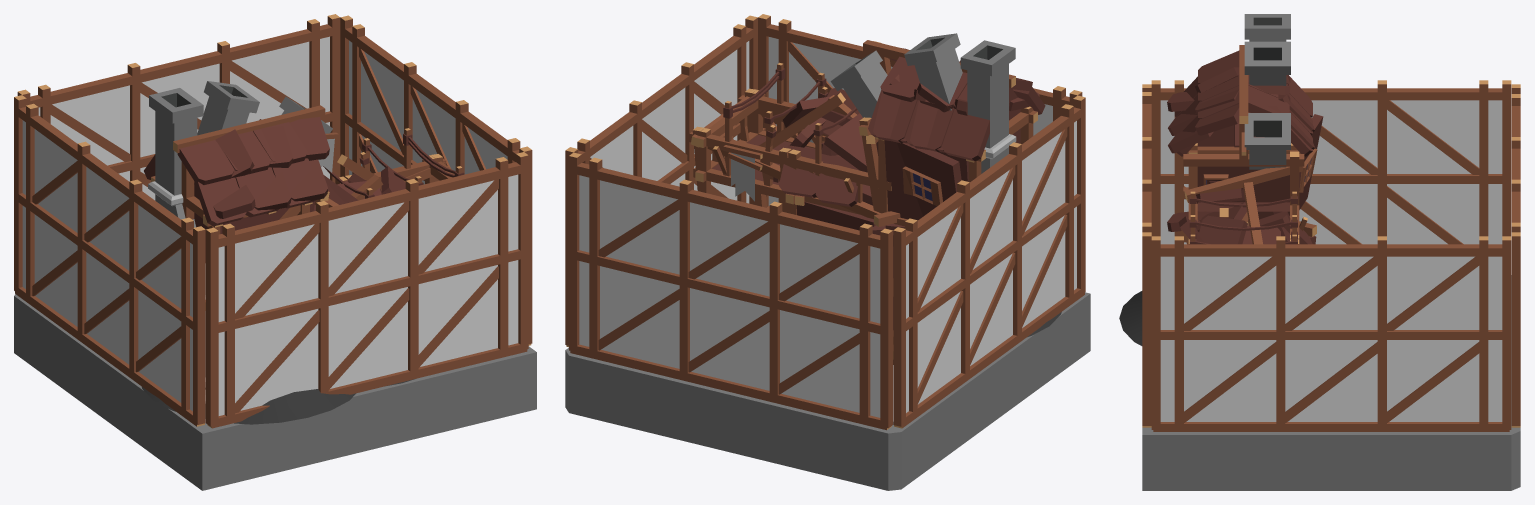
Rendered from Fisherman's house.fbx.
3 views of the same model, side by side, from view 1: azimuth 30°, elevation 25°; view 2: azimuth 150°, elevation 25°; view 3: azimuth 270°, elevation 25° (orthographic). The views are drawn at different scales.
Parts seen in each view (by area): view 1: Scaffold, Destruction_phase_2, Roof, Destruction_phase_3, First_Floor, Carcass, Second_Floor, Rope; view 2: Scaffold, Destruction_phase_3, Destruction_phase_2, Carcass, Roof, First_Floor, Destruction_phase_1, Rope; view 3: Scaffold, Destruction_phase_2, Destruction_phase_3, Roof, Carcass, First_Floor, Rope, Second_Floor, Destruction_phase_1.
Part boxes in pixels (x1,y1,x2,y2): Scaffold: (14,14,536,490); Destruction_phase_2: (197,81,446,293); Roof: (144,122,315,226); Destruction_phase_3: (142,96,455,424); First_Floor: (148,88,205,385); Carcass: (151,113,464,310); Second_Floor: (194,181,289,262); Rope: (323,136,455,195); Scaffold: (565,14,1090,490); Destruction_phase_3: (691,50,1061,337); Destruction_phase_2: (689,33,1039,246); Carcass: (693,52,1037,364); Roof: (712,56,1045,184); First_Floor: (960,40,1016,173); Destruction_phase_1: (796,83,968,230); Rope: (732,71,857,130); Scaffold: (1142,80,1520,490); Destruction_phase_2: (1167,41,1323,244); Destruction_phase_3: (1119,113,1316,345); Roof: (1174,50,1312,156); Carcass: (1183,45,1300,244); First_Floor: (1244,14,1290,41); Rope: (1196,198,1290,244); Second_Floor: (1197,125,1234,146); Destruction_phase_1: (1248,75,1305,192).
Size of the model in its own units: 4.15 by 3.97 by 4.35.
